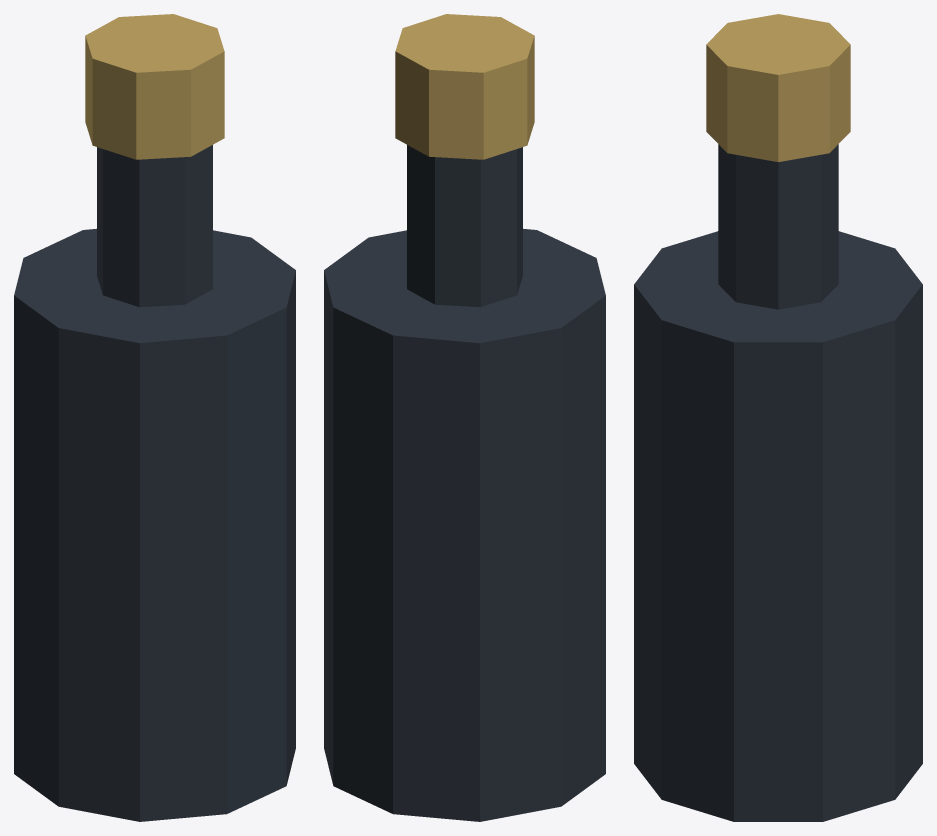
The model's file is PRP_Bottle_NCL_v001.glb.
3 views of the same model, side by side, from view 1: azimuth 30°, elevation 25°; view 2: azimuth 150°, elevation 25°; view 3: azimuth 270°, elevation 25° (orthographic).
Parts seen in each view (by area): view 1: PRP_Bottle_NCL_v001; view 2: PRP_Bottle_NCL_v001; view 3: PRP_Bottle_NCL_v001.
Part boxes in pixels (x1=…): PRP_Bottle_NCL_v001: x1=14, y1=14, x2=295, y2=821; PRP_Bottle_NCL_v001: x1=324, y1=14, x2=605, y2=821; PRP_Bottle_NCL_v001: x1=634, y1=14, x2=922, y2=821.
Bounding box in the file's own units: 0.1141 × 0.33 × 0.12.
